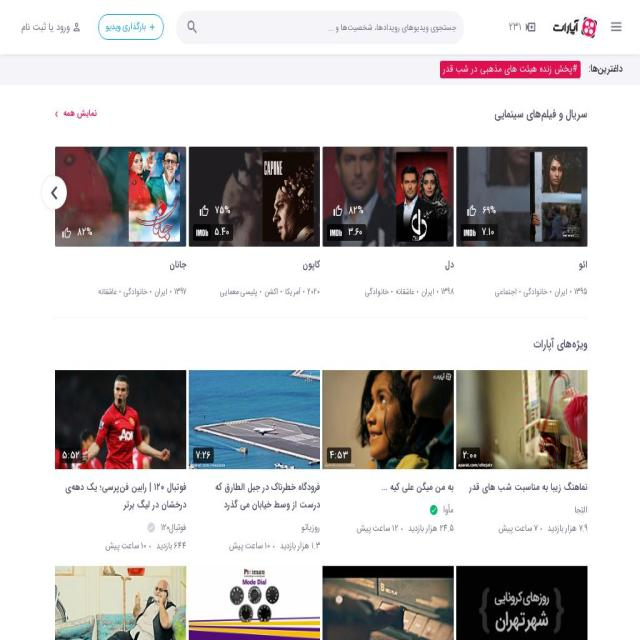button: (457, 146, 588, 248), (322, 146, 453, 248), (189, 146, 320, 248), (55, 146, 186, 248), (457, 369, 588, 470), (322, 369, 453, 470), (189, 369, 320, 470), (55, 369, 186, 470), (457, 565, 588, 640), (322, 565, 453, 640), (189, 565, 320, 640), (55, 565, 186, 640), (0, 146, 52, 247), (198, 478, 320, 514), (64, 478, 186, 514), (439, 61, 582, 79), (331, 477, 454, 496), (465, 477, 587, 496), (331, 255, 454, 273), (465, 255, 587, 273), (198, 255, 320, 273), (64, 255, 186, 273), (13, 13, 90, 41), (331, 502, 454, 518), (465, 502, 587, 518), (198, 520, 320, 535), (64, 520, 186, 535), (494, 105, 588, 124), (98, 14, 164, 40), (501, 13, 545, 41), (553, 15, 598, 39), (52, 102, 97, 126), (0, 254, 52, 273), (42, 176, 67, 210), (606, 13, 628, 42), (180, 18, 204, 36)
field: (204, 10, 464, 44)
heading: (65, 478, 186, 512), (215, 478, 320, 512), (470, 478, 588, 495), (494, 105, 588, 124), (382, 478, 454, 495), (534, 334, 588, 354), (5, 256, 52, 272), (302, 256, 320, 272), (170, 256, 187, 272), (578, 256, 588, 272), (445, 256, 454, 272)
image: (457, 80, 588, 314), (322, 80, 453, 314), (189, 80, 320, 314), (55, 80, 186, 314), (328, 80, 448, 292), (457, 146, 588, 248), (322, 146, 453, 248), (189, 146, 320, 248), (55, 146, 186, 248), (457, 369, 588, 470), (322, 369, 453, 470), (189, 369, 320, 470), (55, 369, 186, 470), (0, 80, 52, 314), (457, 565, 588, 640), (322, 565, 453, 640), (189, 565, 320, 640), (55, 565, 186, 640), (176, 10, 463, 42), (0, 146, 52, 247), (530, 152, 582, 242), (396, 152, 448, 242), (262, 152, 314, 242), (128, 152, 180, 242), (0, 152, 46, 242), (553, 15, 598, 39), (44, 178, 65, 207), (610, 18, 623, 36), (524, 18, 537, 36), (463, 224, 476, 241), (329, 224, 342, 241), (186, 18, 198, 36), (196, 224, 208, 241), (72, 20, 82, 34), (467, 204, 477, 218), (333, 204, 343, 218), (200, 204, 210, 218), (61, 226, 71, 239), (147, 21, 157, 33), (52, 108, 62, 120), (430, 506, 438, 515), (148, 524, 155, 532)
text: (443, 61, 578, 79), (21, 13, 70, 41), (106, 15, 146, 39), (62, 102, 97, 126), (408, 521, 454, 537), (356, 521, 398, 537), (229, 538, 270, 554), (105, 538, 146, 554), (548, 521, 588, 537), (498, 521, 538, 537), (280, 538, 320, 554), (588, 61, 622, 79), (220, 285, 258, 298), (156, 538, 186, 554), (210, 224, 233, 242), (73, 224, 96, 242), (211, 202, 235, 219), (344, 224, 366, 242), (478, 202, 501, 219), (345, 202, 368, 219), (518, 285, 548, 298), (327, 448, 351, 464), (119, 285, 148, 298), (59, 448, 82, 464), (508, 13, 521, 41), (478, 224, 498, 242), (161, 521, 186, 535), (193, 448, 214, 464), (364, 285, 389, 298), (390, 285, 414, 298), (461, 448, 480, 464), (494, 285, 517, 298), (280, 285, 301, 298), (301, 521, 320, 535), (97, 285, 117, 298), (570, 285, 588, 298), (550, 285, 568, 298), (436, 285, 454, 298), (416, 285, 434, 298), (302, 285, 320, 298), (260, 285, 278, 298), (150, 285, 168, 298), (16, 285, 34, 298), (170, 285, 187, 298), (574, 503, 588, 518), (36, 285, 52, 298), (0, 284, 14, 298), (443, 503, 454, 518)
